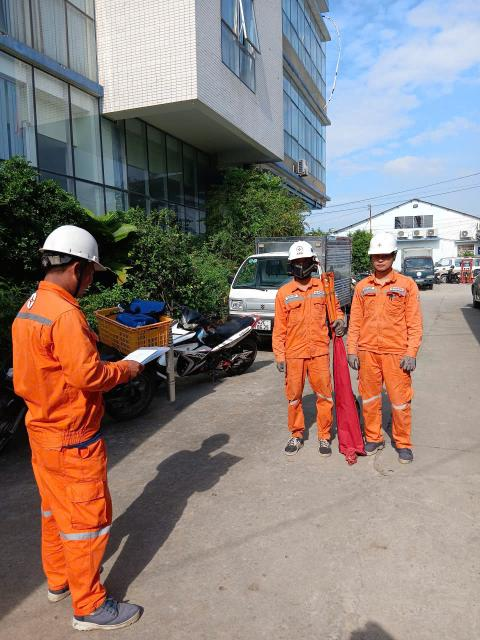gloves: (345, 350, 369, 376), (393, 353, 415, 376), (270, 355, 290, 378), (332, 313, 342, 339)
helmet: (36, 217, 116, 291), (287, 234, 328, 268), (363, 233, 407, 264)
shoes: (60, 586, 147, 634), (34, 575, 92, 604), (278, 428, 313, 463), (354, 432, 382, 455), (312, 433, 338, 457), (394, 440, 415, 468)
